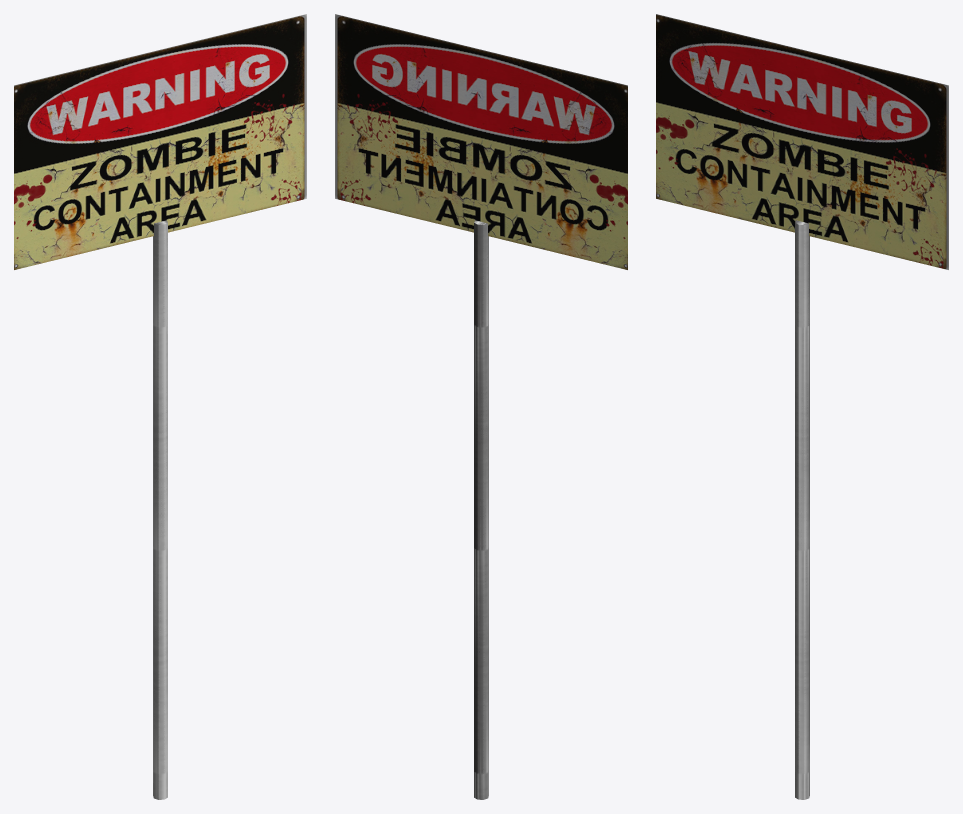
File: zombie.gltf
3 renders of one model, left to right at view 1: azimuth 30°, elevation 25°; view 2: azimuth 150°, elevation 25°; view 3: azimuth 330°, elevation 25°, orthographic.
Visible parts, largest first — view 1: pPlane6; view 2: pPlane6; view 3: pPlane6.
Boxes of the visible parts, x1,y1,x2,y2 form: pPlane6: (14,14,306,799); pPlane6: (335,14,627,799); pPlane6: (656,14,948,799).
Size of the model in its own units: 0.1368 by 0.3333 by 0.00615.
2 materials, 2 textured.
